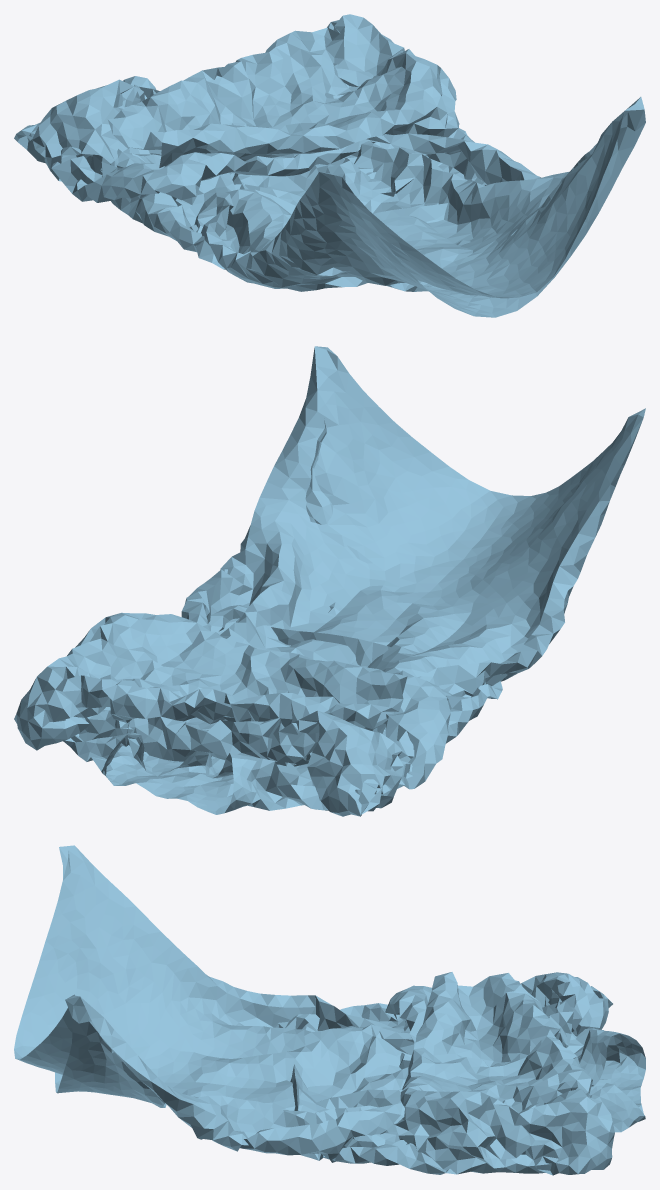
Rendered from frame_03.glb.
The picture shows the model from 3 angles, top to bottom: view 1: azimuth 30°, elevation 25°; view 2: azimuth 150°, elevation 25°; view 3: azimuth 270°, elevation 25°; orthographic projection. The views are drawn at different scales.
Visible parts, largest first — view 1: frame_03.obj; view 2: frame_03.obj; view 3: frame_03.obj.
Boxes of the visible parts, bbox=[...] form: frame_03.obj: bbox=[14, 14, 645, 317]; frame_03.obj: bbox=[14, 346, 645, 816]; frame_03.obj: bbox=[14, 845, 645, 1175].
Size of the model in its own units: 0.932 by 0.4927 by 1.51.
